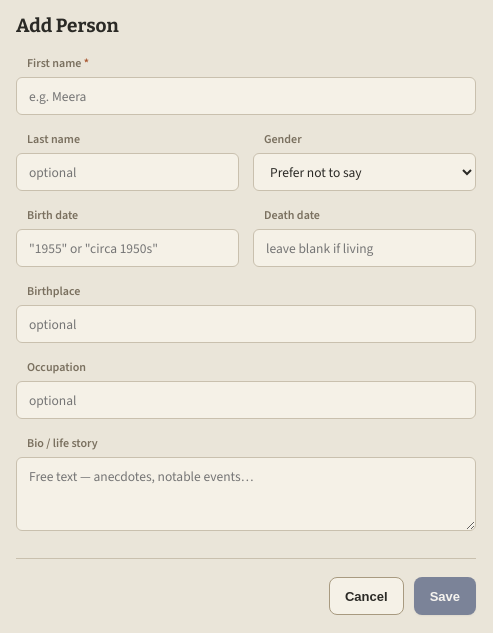
Test: PersonForm › disables Save when first name is cleared after being entered (no crash)
This screenshot has width=493, height=633.
Enable Save by typing a name
Type "Anna" into the field labelled "First name *" at point(246, 96), box [16,77,476,115]
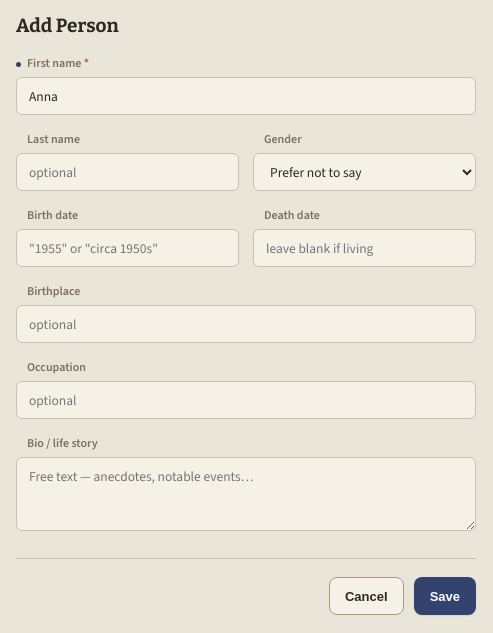
Now the button "Save" is enabled, box [414,577,476,615]
Disable Save by clearing the name (must not crash)
Clear the field labelled "First name *" at point(246, 96), box [16,77,476,115]
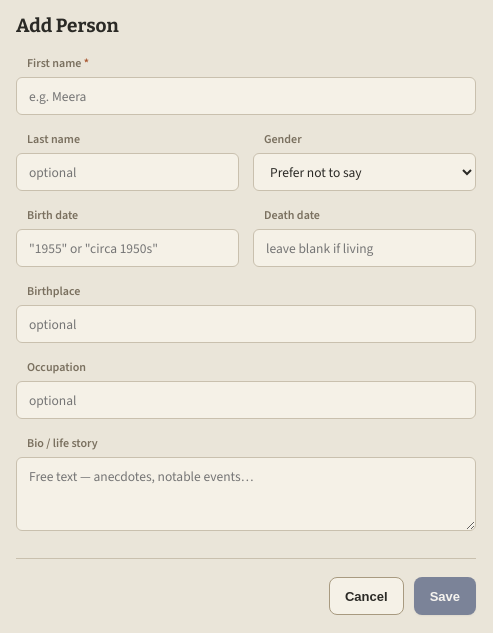
Now the button "Save" is disabled, box [414,577,476,615]
